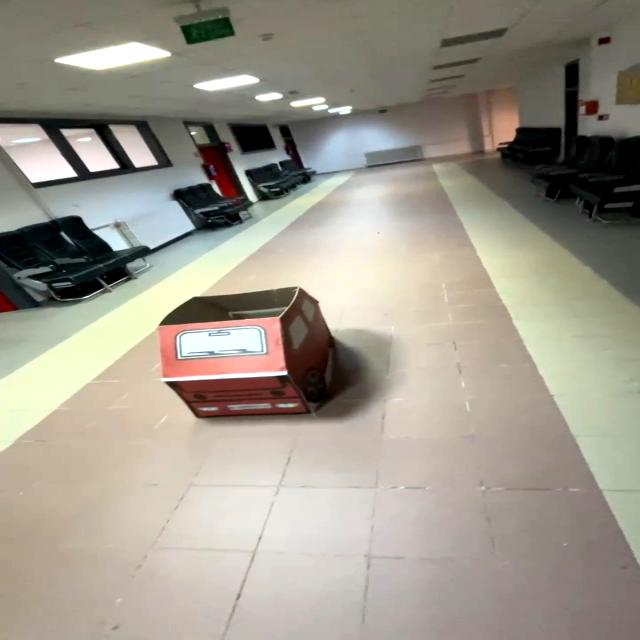red_car: (148, 274, 380, 432)
